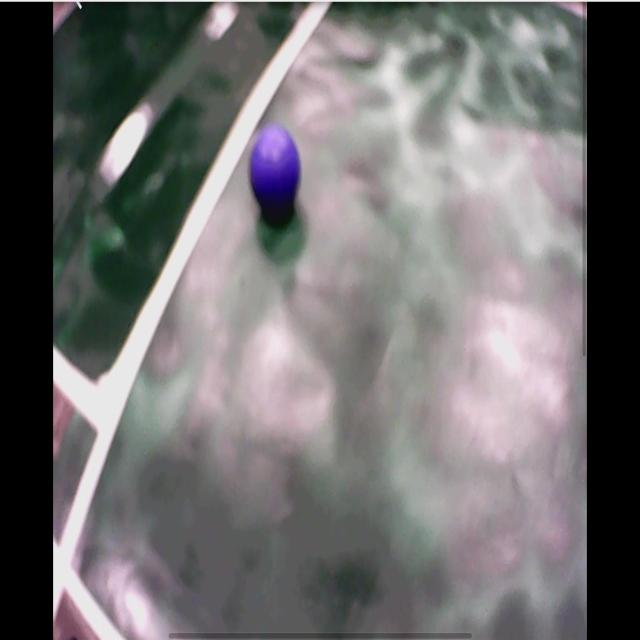ball: (252, 127, 298, 210)
